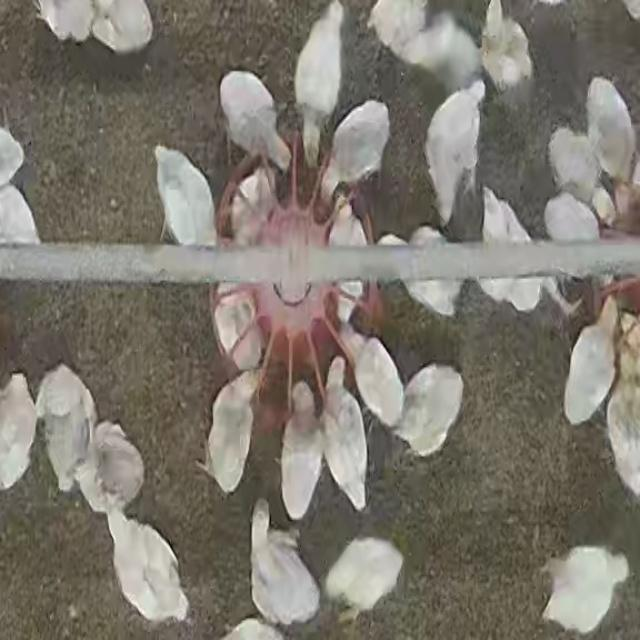chicken: (103, 503, 187, 625), (476, 190, 550, 318), (248, 504, 320, 629), (424, 84, 484, 230), (35, 365, 97, 496), (538, 545, 630, 633), (293, 1, 346, 151), (218, 69, 290, 179), (159, 148, 223, 268), (323, 532, 406, 617), (322, 358, 367, 511), (344, 324, 405, 432), (278, 381, 324, 520), (399, 364, 465, 460), (399, 222, 462, 320), (326, 98, 390, 194), (562, 316, 615, 427), (588, 73, 636, 184), (207, 371, 252, 489), (217, 264, 263, 373), (478, 0, 533, 91), (90, 423, 144, 510), (332, 196, 367, 320), (1, 376, 39, 490), (234, 166, 279, 262), (368, 1, 434, 64), (547, 126, 599, 203), (607, 389, 639, 507), (90, 0, 152, 54), (542, 190, 599, 243), (34, 1, 96, 45), (481, 189, 517, 239)
